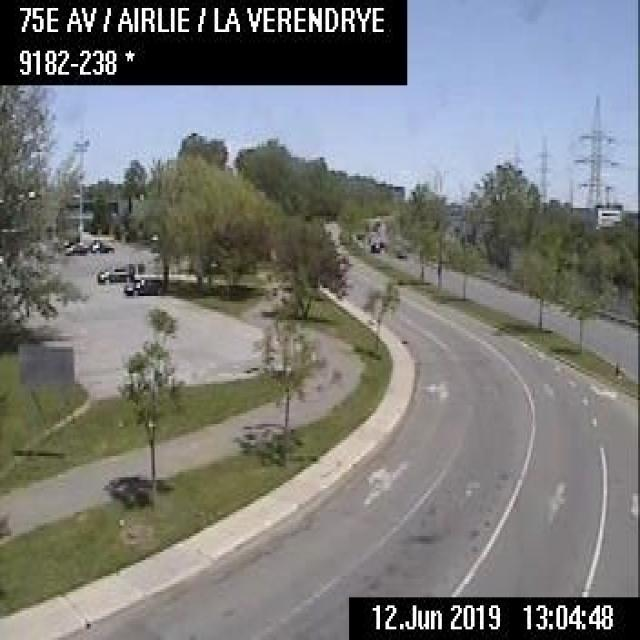vehicle: (121, 274, 160, 295), (94, 264, 129, 284), (88, 236, 112, 254), (64, 240, 88, 256), (367, 238, 381, 252), (394, 246, 406, 259)
